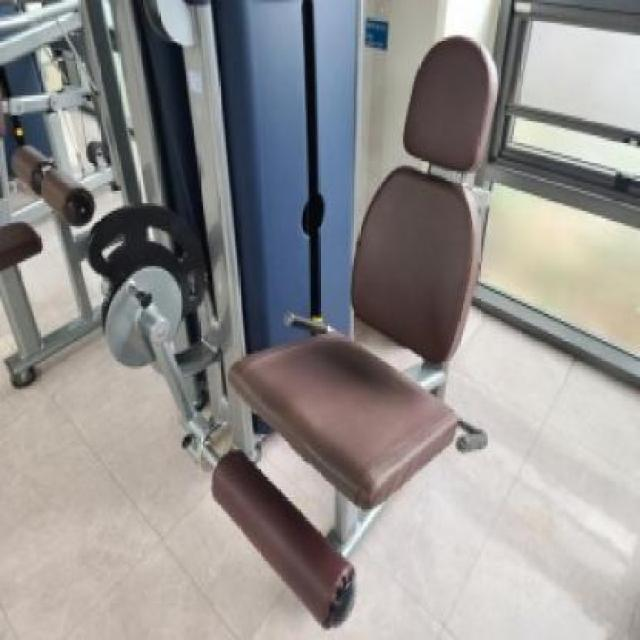leg extension: (69, 0, 511, 640)
